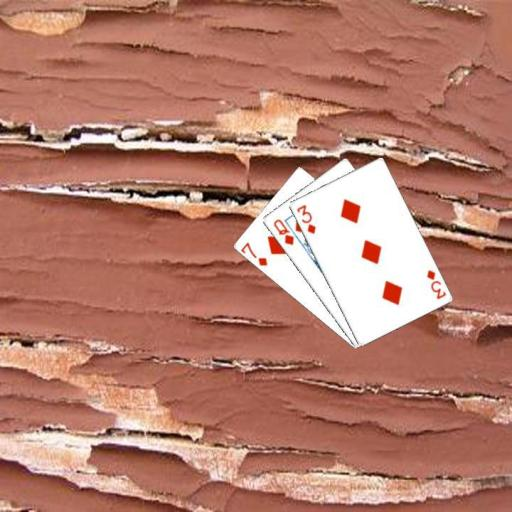3D: (293, 202, 317, 236), (423, 267, 447, 301)
7D: (238, 239, 269, 267)
QD: (270, 215, 295, 247)
